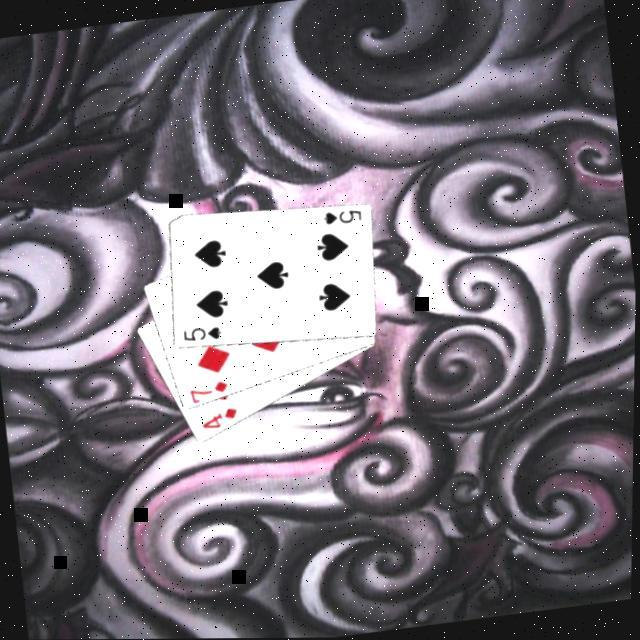4D: (198, 404, 243, 434)
5S: (180, 322, 226, 348), (320, 206, 366, 230)
7D: (188, 378, 234, 406)
